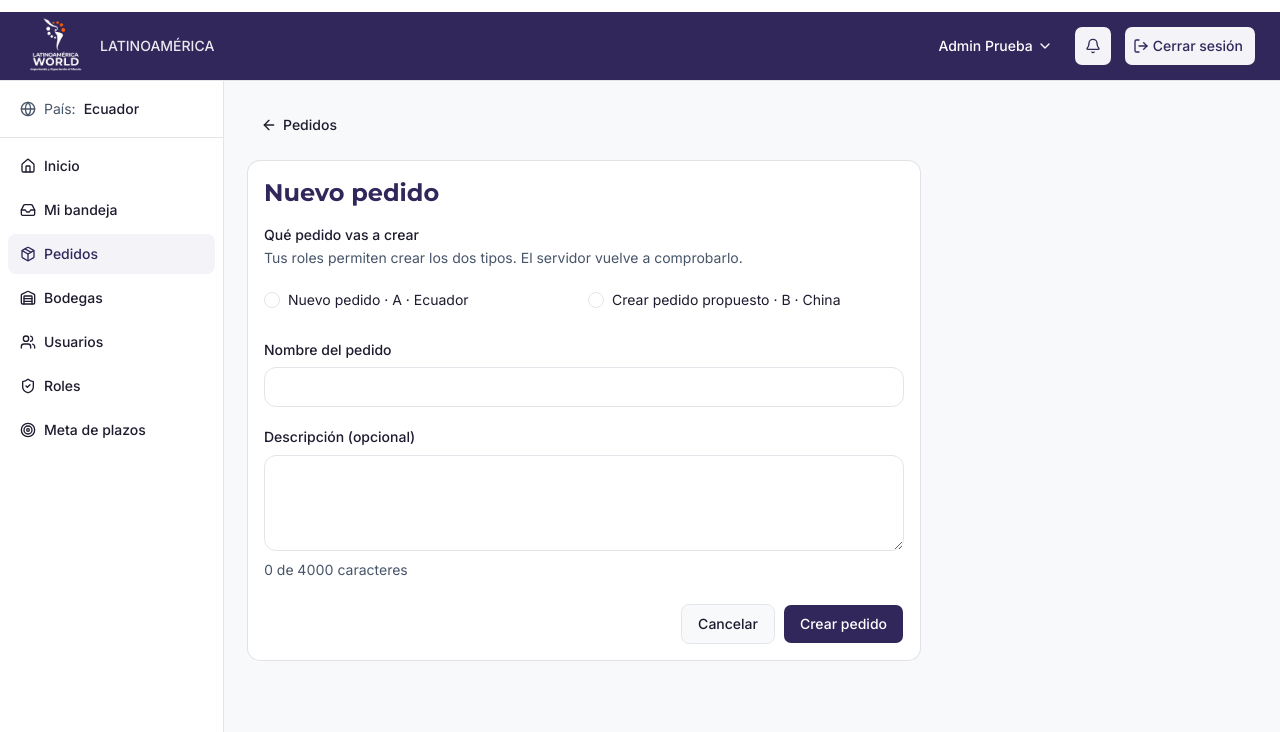
Test: Fase 6: creación y definiciones separadas, API simulada explícita › admin y Compras China deben elegir el flujo sin valor predeterminado
Type "Borrador que conservar" into the field labelled "Nombre del pedido" at x=584, y=387, box top-left (264, 367), bottom-right (904, 407)
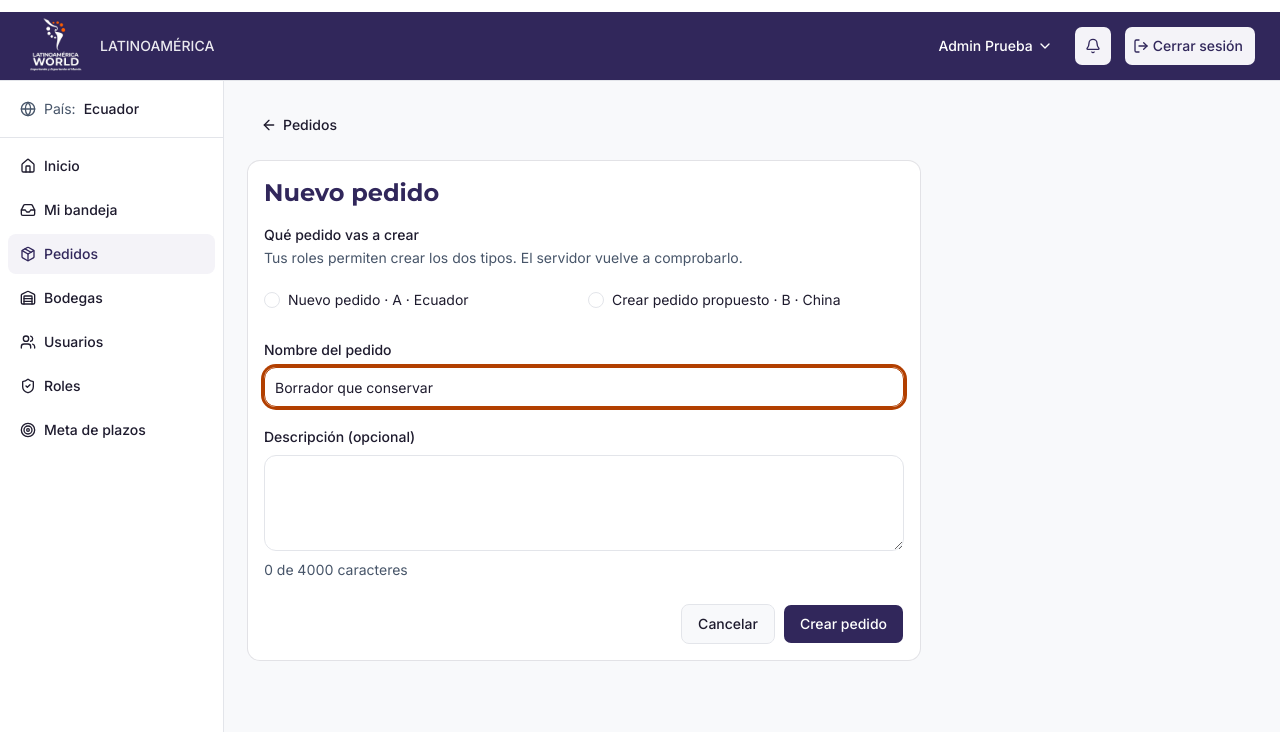
Click the button "Crear pedido" at x=844, y=624, box top-left (783, 604), bottom-right (904, 644)
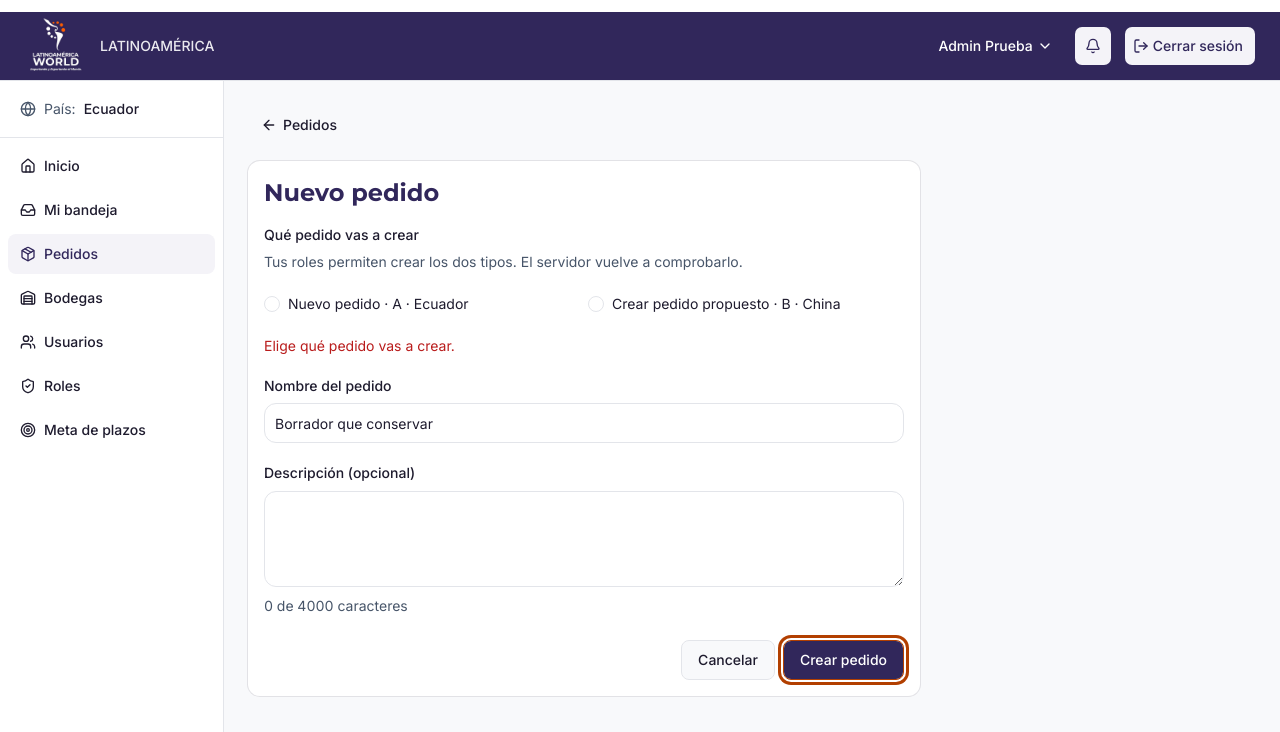
Result: the text "Elige qué pedido vas a crear." is shown at top-left (264, 337), bottom-right (455, 354)
Click the radio button named "Crear pedido propuesto" next to "Crear pedido propuesto" at x=596, y=304, box top-left (588, 296), bottom-right (604, 312)
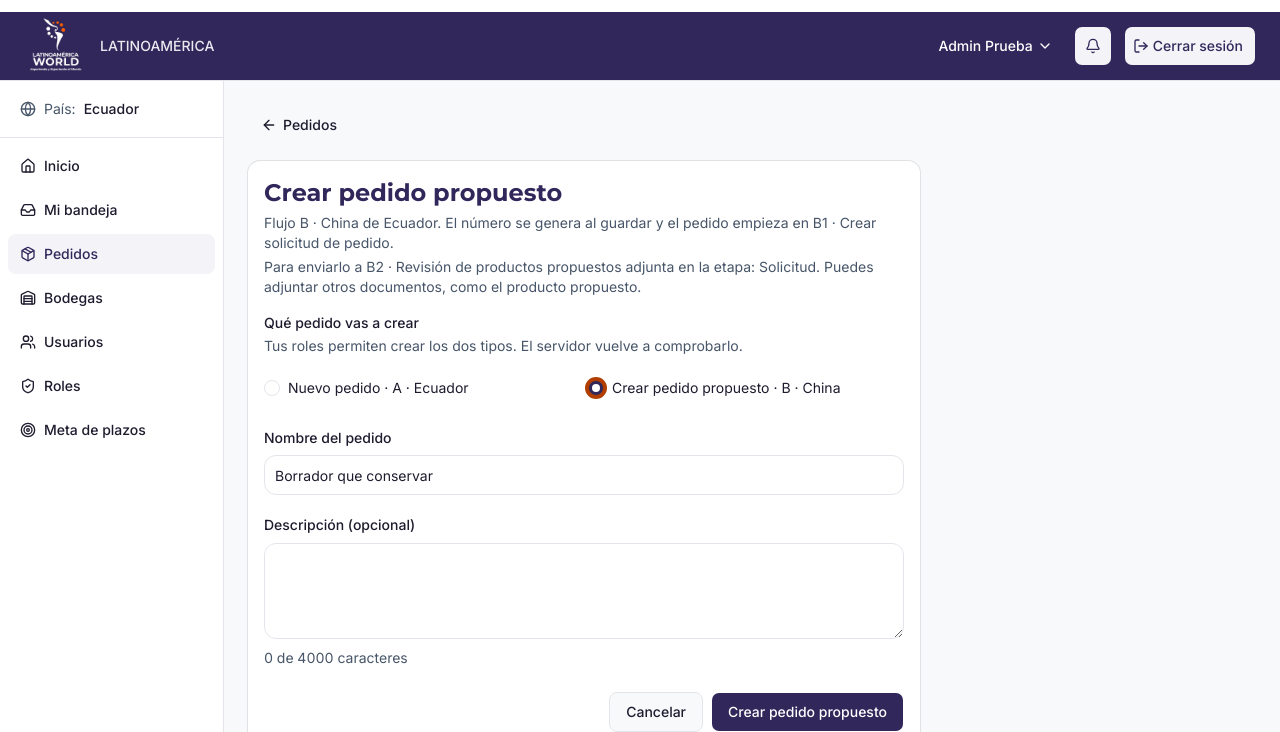
Click the button "Crear pedido propuesto" at x=808, y=712, box top-left (711, 692), bottom-right (904, 731)
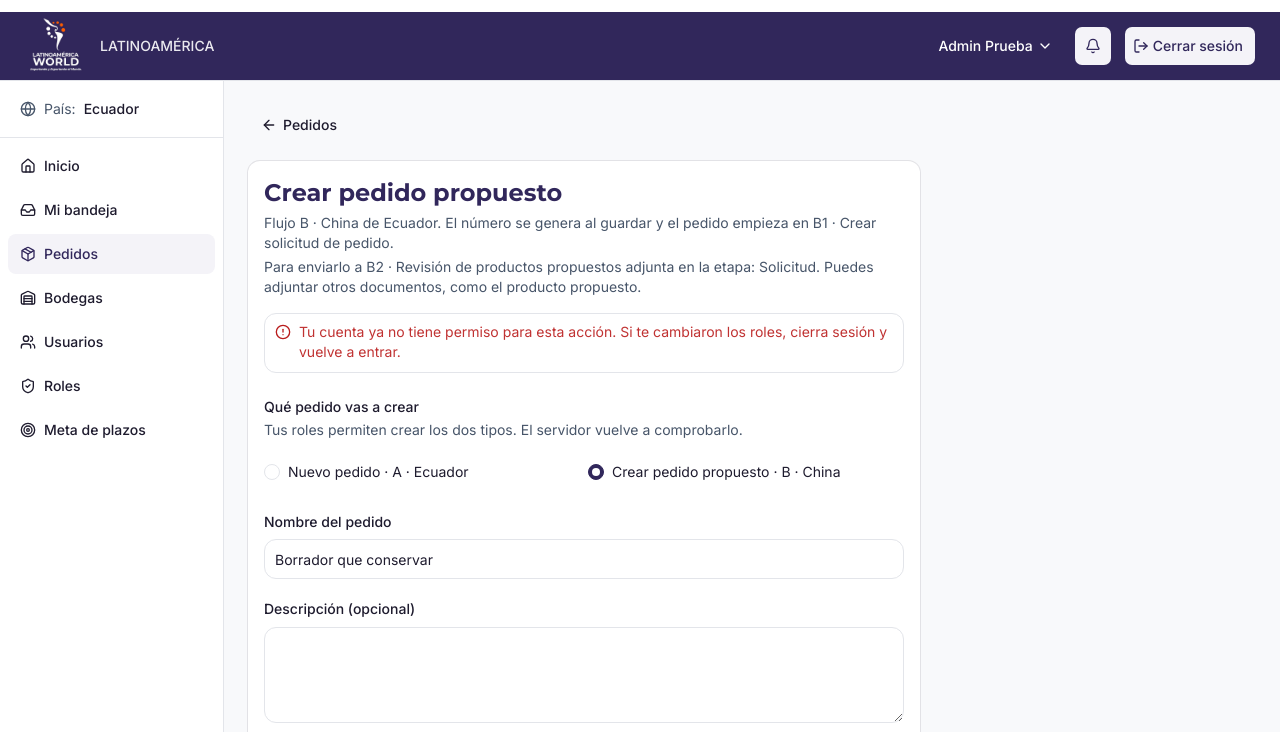
Result: the text "Tu cuenta ya no tiene permiso" is shown at top-left (299, 323), bottom-right (887, 360)
